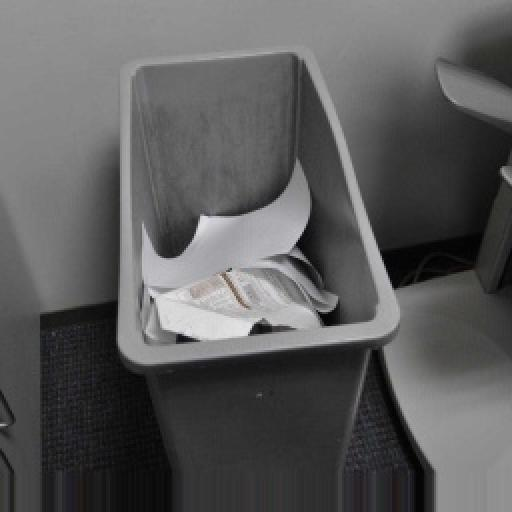trash-can: (94, 43, 408, 499)
